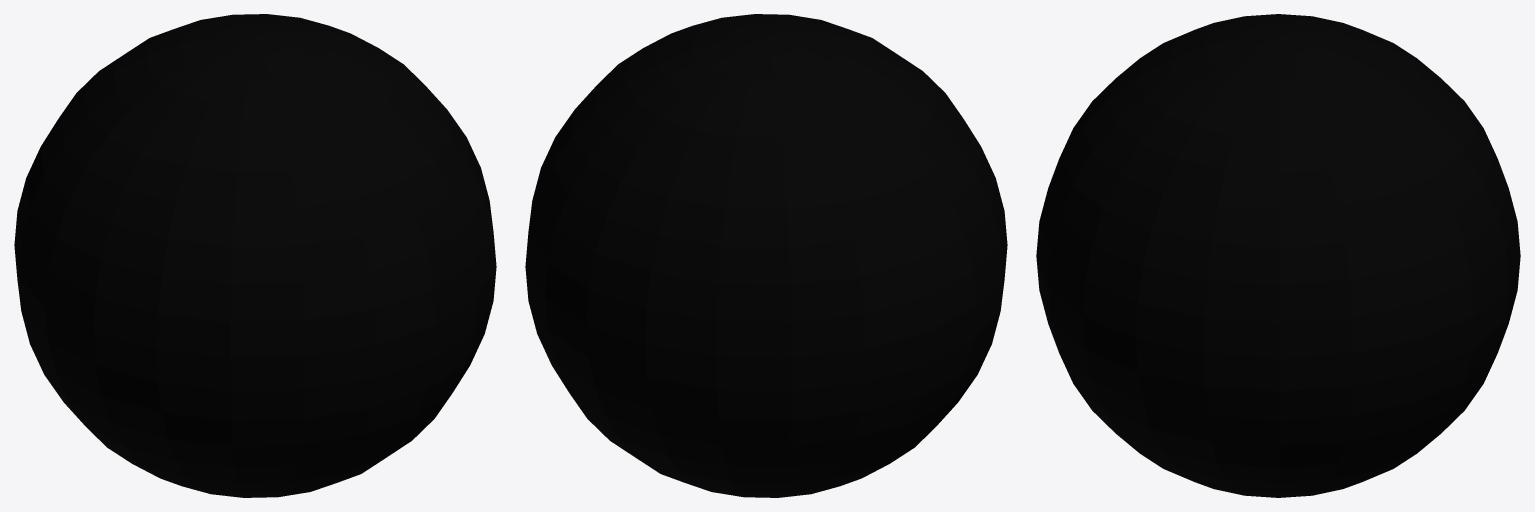
The model's file is SecondScreenManager.fbx.
3 renders of one model, left to right at view 1: azimuth 30°, elevation 25°; view 2: azimuth 150°, elevation 25°; view 3: azimuth 270°, elevation 25°, orthographic.
Parts seen in each view (by area): view 1: SkySphereLiteRotating; view 2: SkySphereLiteRotating; view 3: SkySphereLiteRotating.
Boxes of the visible parts, <box> form: SkySphereLiteRotating: <box>14,14,496,497</box>; SkySphereLiteRotating: <box>525,14,1007,497</box>; SkySphereLiteRotating: <box>1036,14,1520,497</box>.
Bounding box in the file's own units: 150 × 150 × 150.
9 materials, 9 textured.
